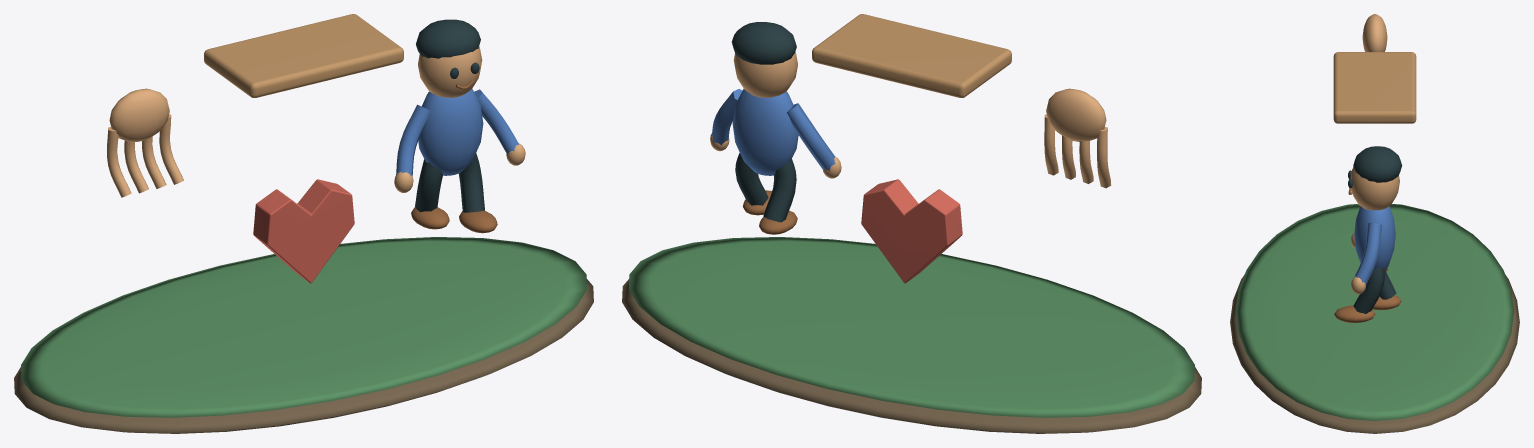
File: complete-first-protect-friend.glb
3 views of the same model, side by side, from view 1: azimuth 30°, elevation 25°; view 2: azimuth 150°, elevation 25°; view 3: azimuth 270°, elevation 25° (orthographic). The views are drawn at different scales.
Parts seen in each view (by area): view 1: complete-first-protect-friend_surface_01, complete-first-protect-friend_surface_00, complete-first-protect-friend_surface_03, complete-first-protect-friend_surface_02, complete-first-protect-friend_surface_07, complete-first-protect-friend_surface_06, complete-first-protect-friend_surface_04, complete-first-protect-friend_surface_05; view 2: complete-first-protect-friend_surface_01, complete-first-protect-friend_surface_00, complete-first-protect-friend_surface_03, complete-first-protect-friend_surface_02, complete-first-protect-friend_surface_07, complete-first-protect-friend_surface_06, complete-first-protect-friend_surface_04, complete-first-protect-friend_surface_05; view 3: complete-first-protect-friend_surface_01, complete-first-protect-friend_surface_03, complete-first-protect-friend_surface_00, complete-first-protect-friend_surface_04, complete-first-protect-friend_surface_06, complete-first-protect-friend_surface_02, complete-first-protect-friend_surface_05.
Boxes of the visible parts, <box> form: complete-first-protect-friend_surface_01: <box>21,237,586,417</box>; complete-first-protect-friend_surface_00: <box>14,279,593,433</box>; complete-first-protect-friend_surface_03: <box>204,14,403,97</box>; complete-first-protect-friend_surface_02: <box>107,46,525,197</box>; complete-first-protect-friend_surface_07: <box>253,179,354,283</box>; complete-first-protect-friend_surface_06: <box>396,89,518,175</box>; complete-first-protect-friend_surface_04: <box>415,19,484,212</box>; complete-first-protect-friend_surface_05: <box>411,80,497,233</box>; complete-first-protect-friend_surface_01: <box>629,237,1194,417</box>; complete-first-protect-friend_surface_00: <box>622,279,1201,433</box>; complete-first-protect-friend_surface_03: <box>812,14,1011,97</box>; complete-first-protect-friend_surface_02: <box>710,51,1111,188</box>; complete-first-protect-friend_surface_07: <box>861,179,962,283</box>; complete-first-protect-friend_surface_06: <box>712,89,835,175</box>; complete-first-protect-friend_surface_04: <box>731,22,796,222</box>; complete-first-protect-friend_surface_05: <box>743,190,797,234</box>; complete-first-protect-friend_surface_01: <box>1236,204,1513,420</box>; complete-first-protect-friend_surface_03: <box>1333,52,1416,123</box>; complete-first-protect-friend_surface_00: <box>1230,274,1519,433</box>; complete-first-protect-friend_surface_04: <box>1348,146,1402,313</box>; complete-first-protect-friend_surface_06: <box>1354,206,1395,285</box>; complete-first-protect-friend_surface_02: <box>1350,14,1399,294</box>; complete-first-protect-friend_surface_05: <box>1334,188,1401,322</box>.
Size of the model in its own units: 4.56 by 2.42 by 2.5.
